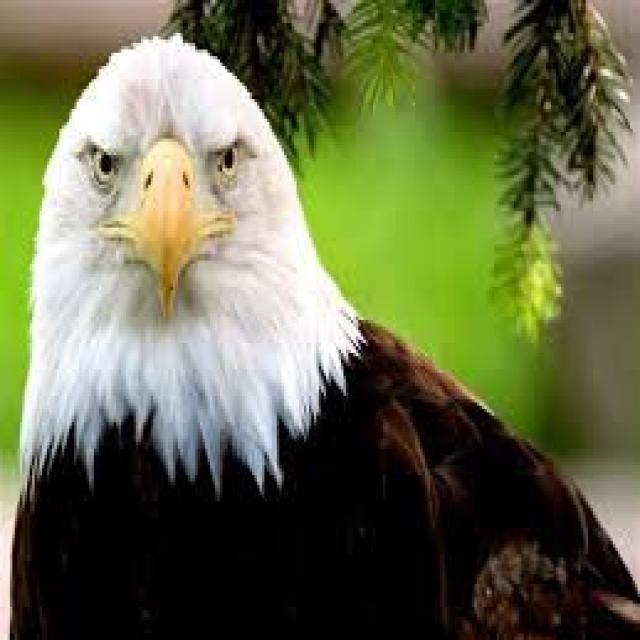Eagle: (13, 34, 640, 640)
